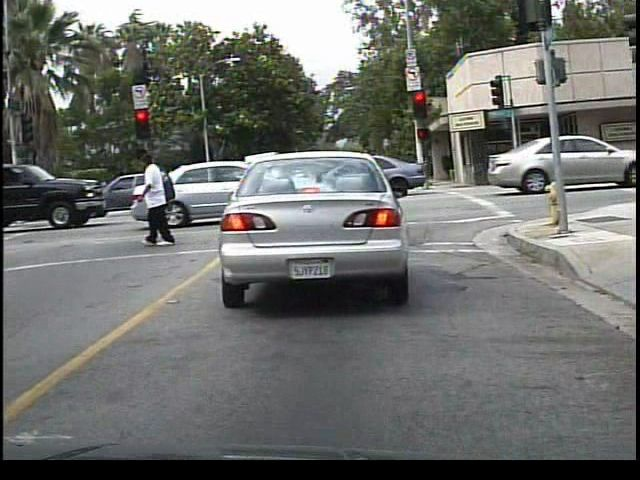person: (135, 151, 190, 249)
